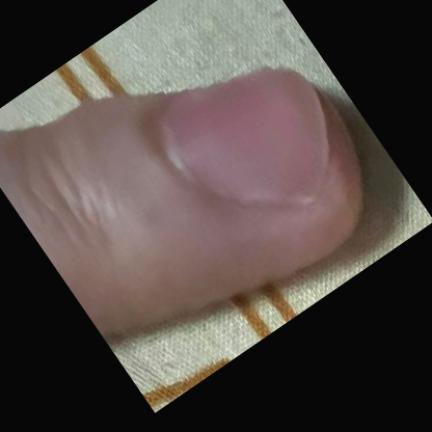Nail: (167, 68, 329, 203)
